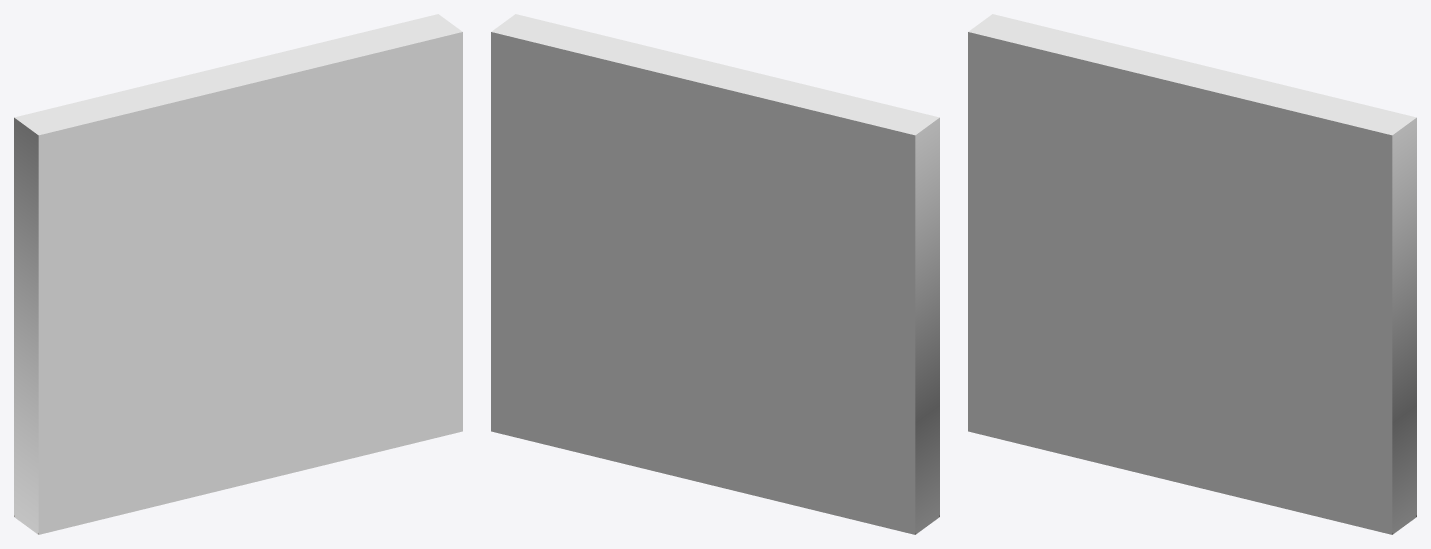
Rendered from wall.fbx.
3 views of the same model, side by side, from view 1: azimuth 30°, elevation 25°; view 2: azimuth 150°, elevation 25°; view 3: azimuth 330°, elevation 25° (orthographic).
Parts seen in each view (by area): view 1: Cube.001; view 2: Cube.001; view 3: Cube.001.
Boxes of the visible parts, bbox=[...] form: Cube.001: bbox=[14, 14, 462, 534]; Cube.001: bbox=[491, 14, 939, 534]; Cube.001: bbox=[968, 14, 1416, 534].
Size of the model in its own units: 1000 by 900 by 100.
